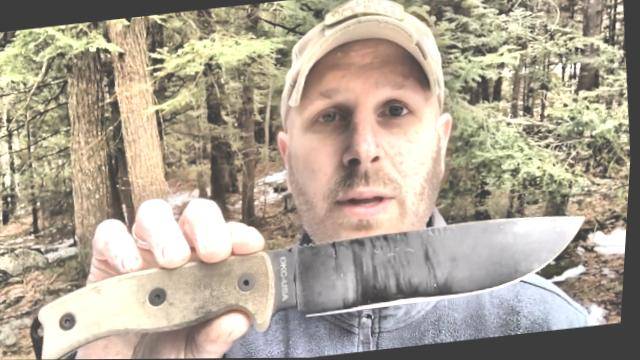knife: (83, 150, 605, 355)
